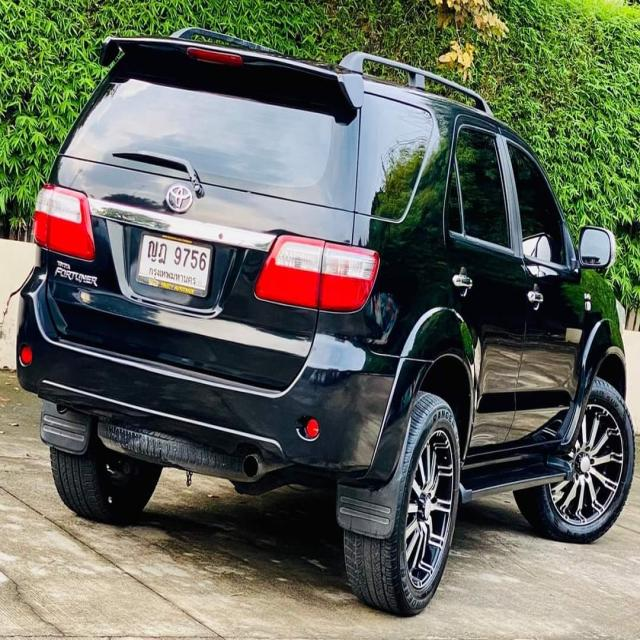license_plate: (135, 229, 213, 296)
